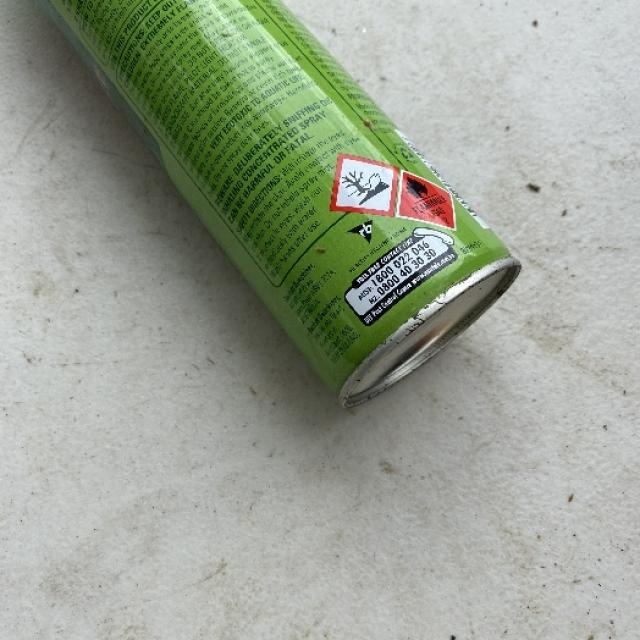metal: (31, 0, 522, 409)
